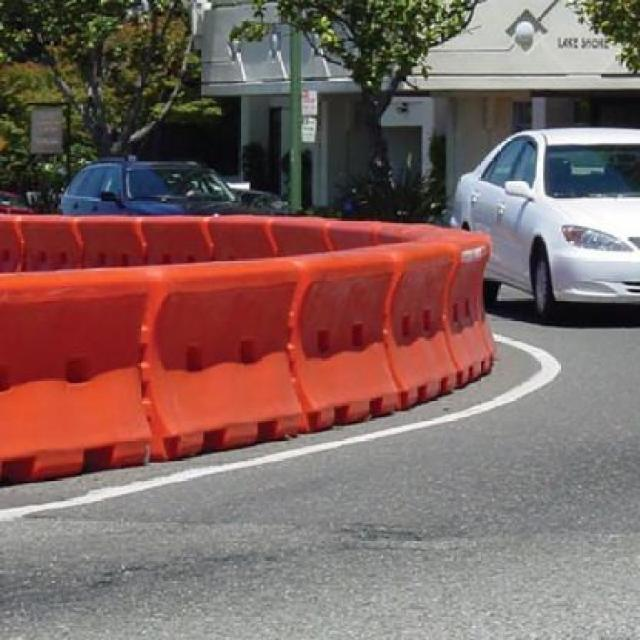fallen_object: (0, 189, 448, 290), (243, 220, 459, 421), (129, 246, 312, 462), (0, 266, 160, 475), (400, 215, 502, 367)
